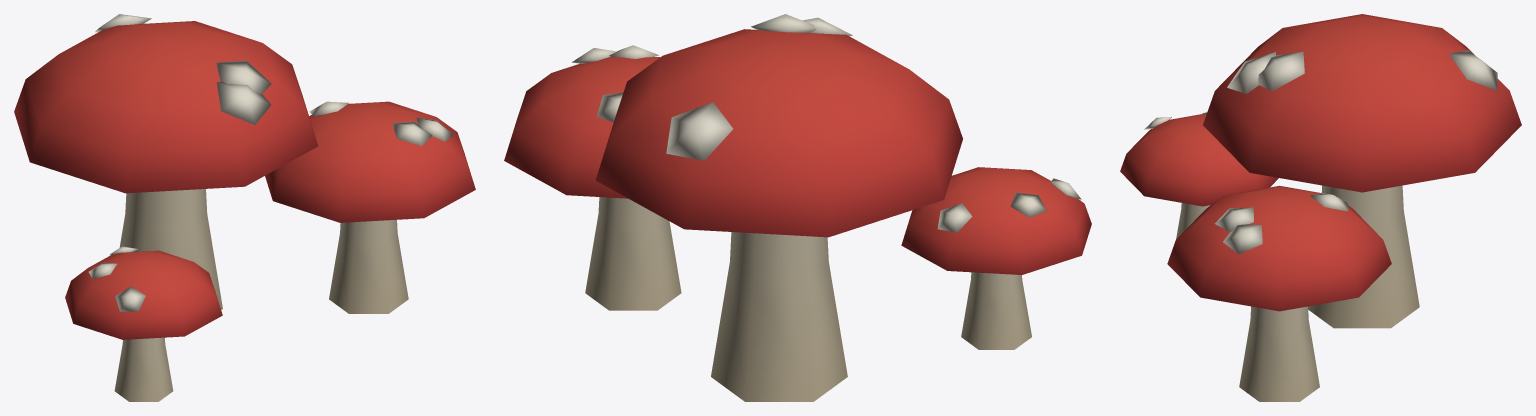
The model's file is plant-mushroom.glb.
The picture shows the model from 3 angles, left to right: view 1: azimuth 30°, elevation 25°; view 2: azimuth 150°, elevation 25°; view 3: azimuth 270°, elevation 25°; orthographic projection. The views are drawn at different scales.
Visible parts, largest first — view 1: plant.mushroom; view 2: plant.mushroom; view 3: plant.mushroom.
Boxes of the visible parts, x1,y1,x2,y2 form: plant.mushroom: [14, 14, 475, 401]; plant.mushroom: [504, 14, 1091, 401]; plant.mushroom: [1120, 14, 1521, 401].
Size of the model in its own units: 0.85 by 0.5075 by 0.68.
